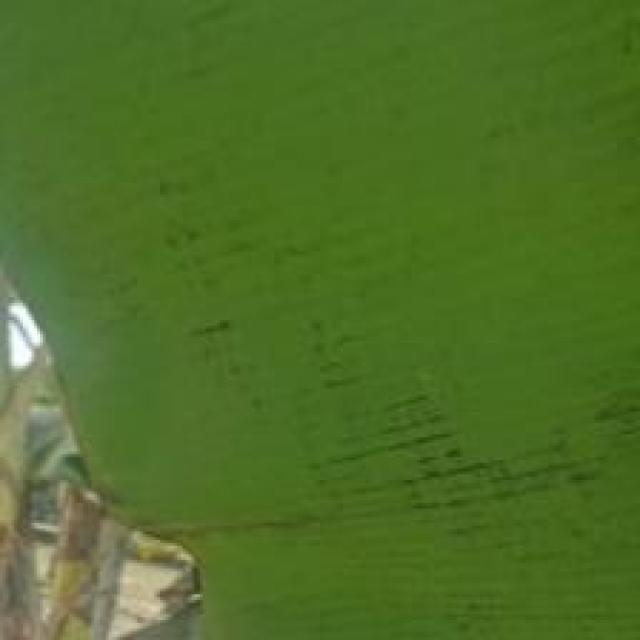Black_leaf_spot: (0, 0, 574, 588)
